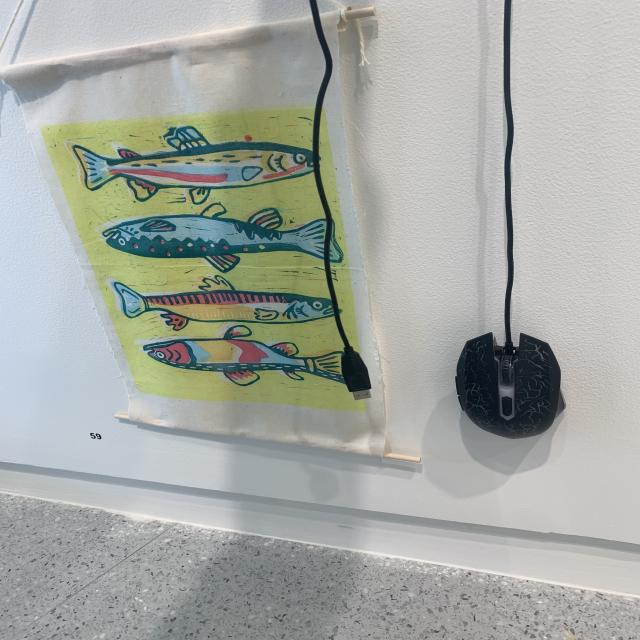Mouse: (443, 328, 579, 459)
